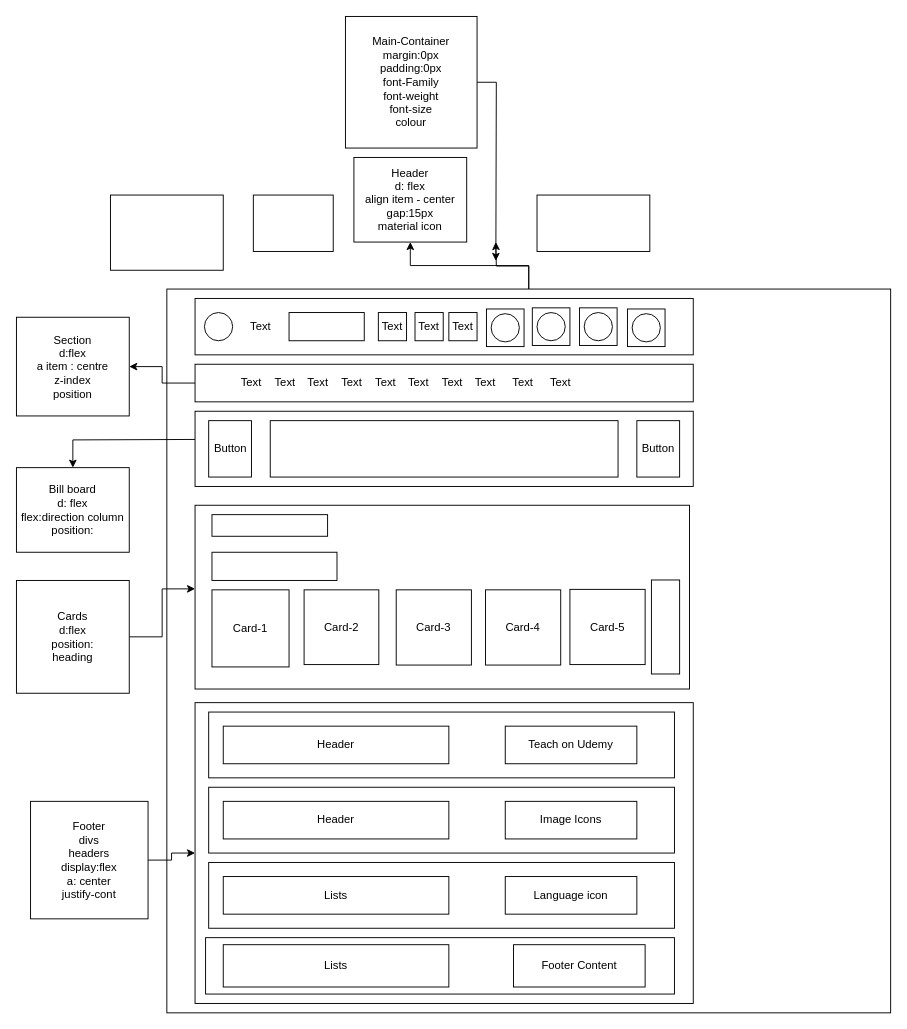
This 907x1029 diagram has some shape labels left out. The shapes that lost their labels are listed below. From the top down, each one's centre as x and y in pixels, then its label:
(166,232): Search Bar display: flex align-items centere padding: 5px
(292,222): Logo svg
(593,222): Navbar d:flex a item - centre
(326,326): Search
(443,448): Banner-Image
(269,525): What to learn next
(274,565): Recommended for you
(665,626): arrow
